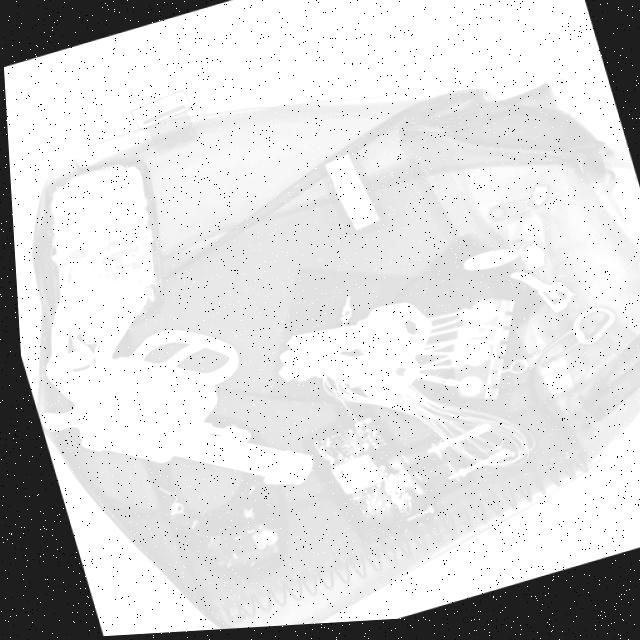pistol: (11, 224, 318, 554)
